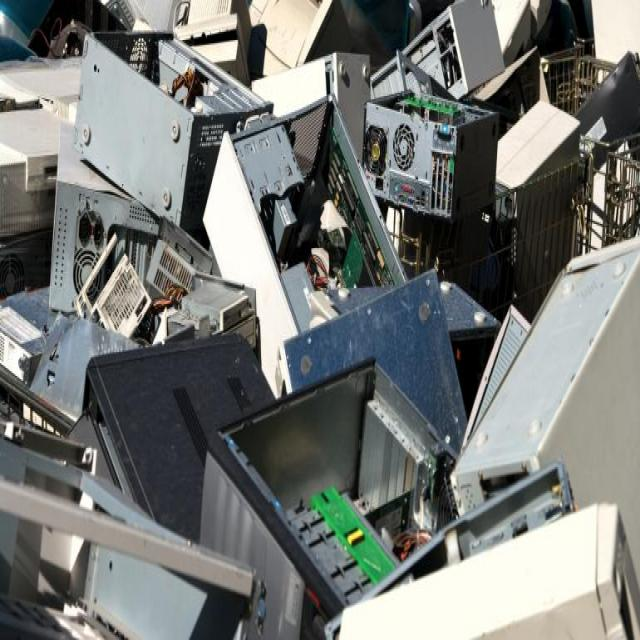heap: (21, 55, 566, 640)
